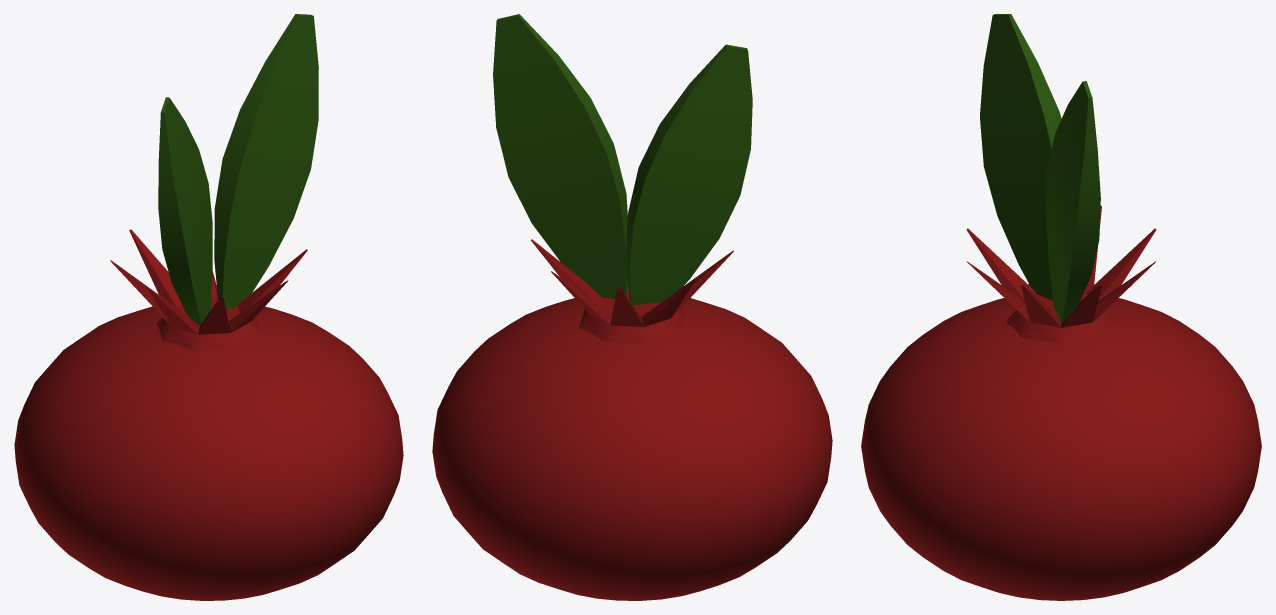
Rendered from Fruit.fbx.
3 renders of one model, left to right at view 1: azimuth 30°, elevation 25°; view 2: azimuth 150°, elevation 25°; view 3: azimuth 270°, elevation 25°, orthographic. The views are drawn at different scales.
Parts seen in each view (by area): view 1: Object001; view 2: Object001; view 3: Object001.
Part boxes in pixels (left/top/right/bottom): Object001: left=14, top=14, right=403, bottom=600; Object001: left=432, top=14, right=832, bottom=600; Object001: left=861, top=14, right=1261, bottom=600.
Bounding box in the file's own units: 20.96 × 31.41 × 20.96.
